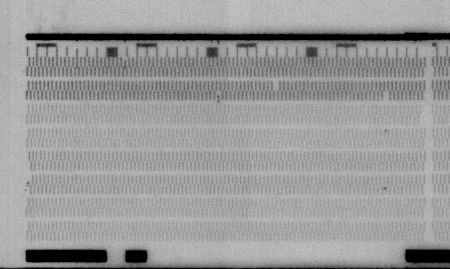Broken hole: (21, 157, 34, 185), (381, 92, 392, 104), (270, 82, 283, 92)
Oblique printing: (212, 91, 224, 105), (119, 57, 130, 70)
